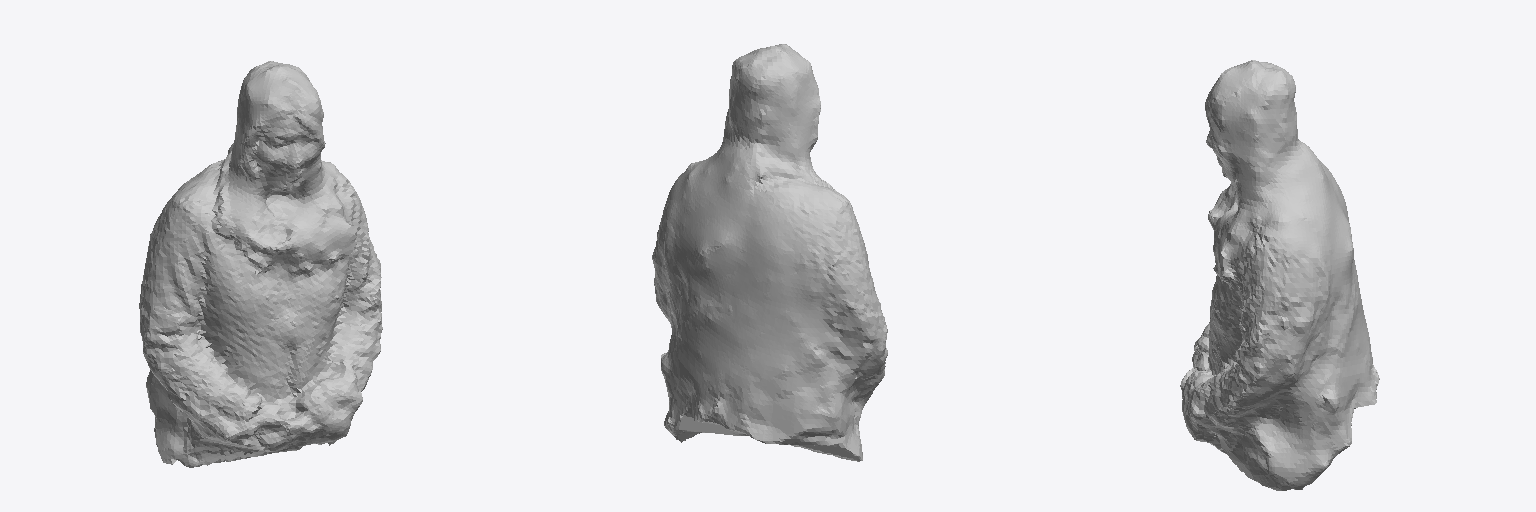
The model's file is mum_enemy.obj.
The picture shows the model from 3 angles: view 1: azimuth 30°, elevation 25°; view 2: azimuth 150°, elevation 25°; view 3: azimuth 270°, elevation 25°; orthographic projection.
Visible parts, largest first — view 1: Mum_Lowpoly; view 2: Mum_Lowpoly; view 3: Mum_Lowpoly.
Boxes of the visible parts, box(x1,y1,x2,y2) form: Mum_Lowpoly: box(139, 61, 382, 467); Mum_Lowpoly: box(652, 44, 887, 461); Mum_Lowpoly: box(1180, 60, 1379, 490).
Size of the model in its own units: 3.72 by 6.1 by 2.8.